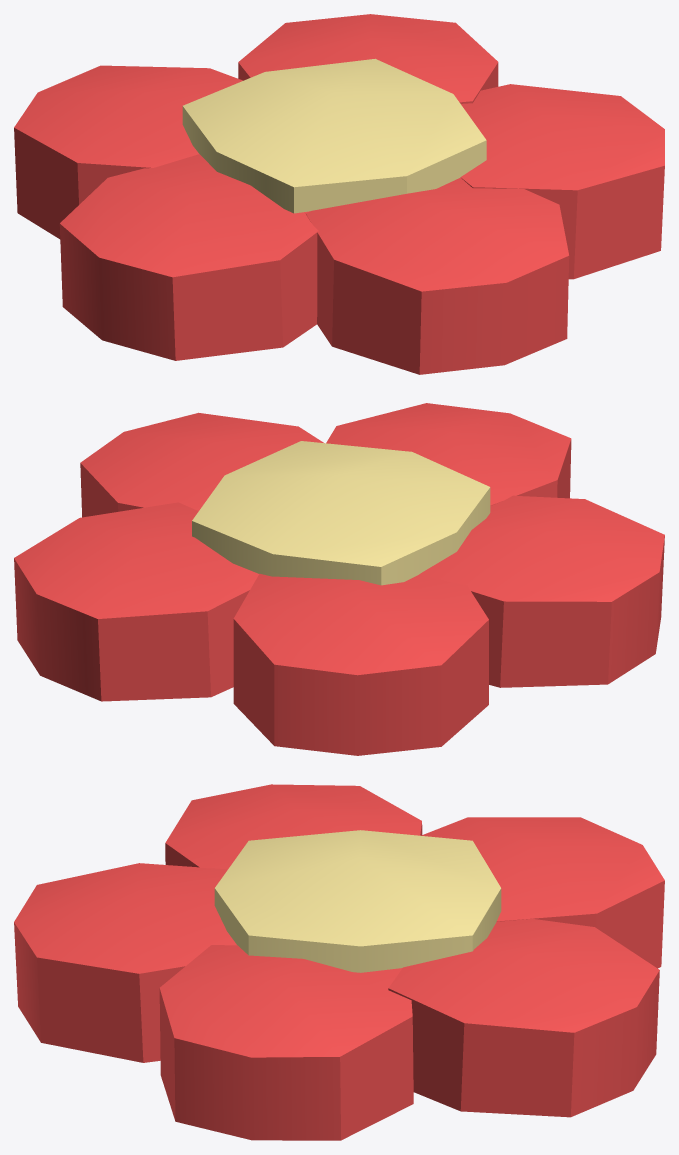
Rendered from Flower_A.fbx.
3 views of the same model, one above another, from view 1: azimuth 30°, elevation 25°; view 2: azimuth 150°, elevation 25°; view 3: azimuth 270°, elevation 25° (orthographic). The views are drawn at different scales.
Parts seen in each view (by area): view 1: Flower_A; view 2: Flower_A; view 3: Flower_A.
Part boxes in pixels (x1=…): Flower_A: x1=14, y1=14, x2=664, y2=374; Flower_A: x1=14, y1=403, x2=664, y2=755; Flower_A: x1=14, y1=784, x2=664, y2=1140.
Size of the model in its own units: 127 by 32.17 by 128.
